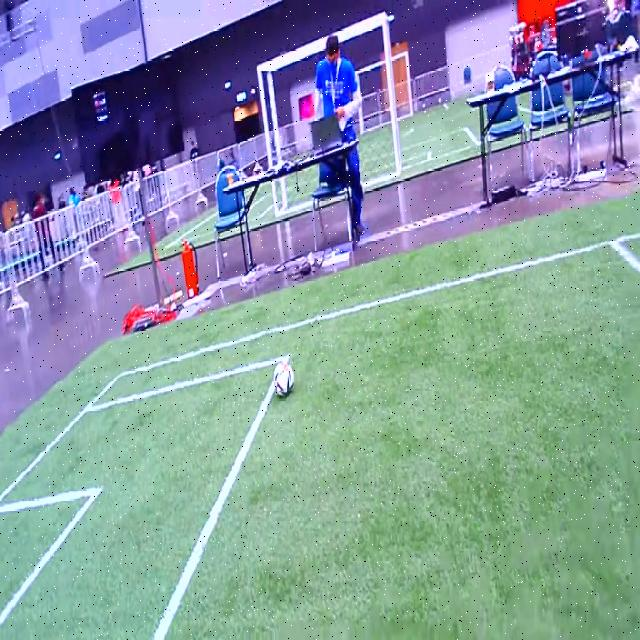ball: (274, 362, 294, 397)
